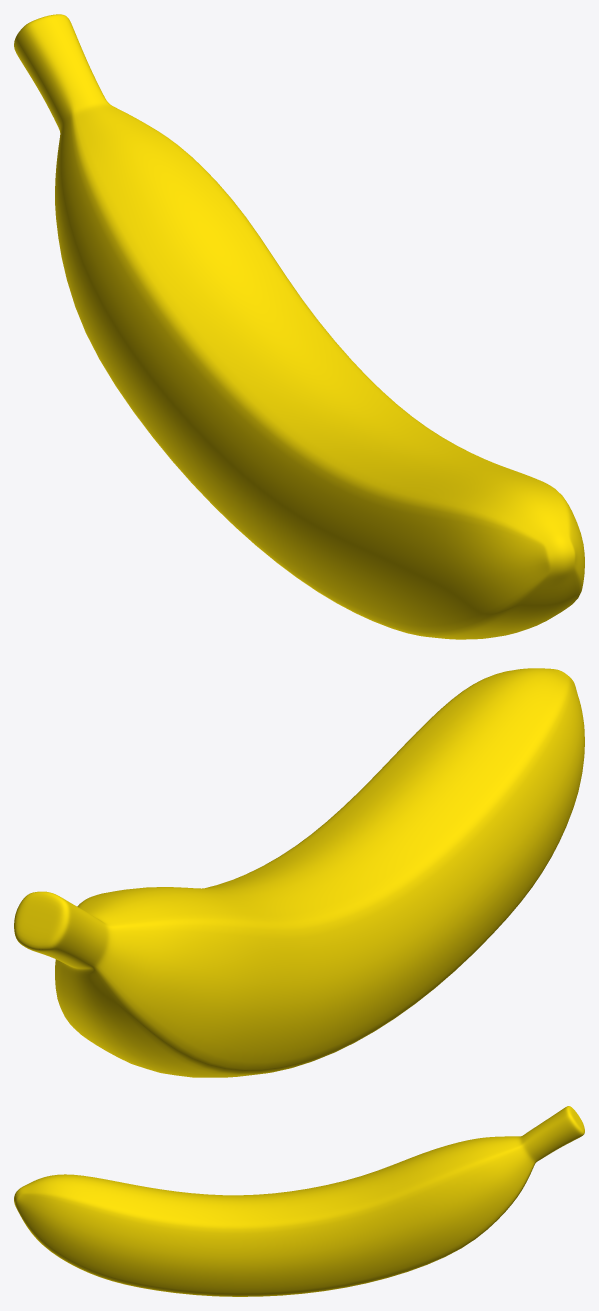
File: banana.fbx
The picture shows the model from 3 angles, top to bottom: view 1: azimuth 30°, elevation 25°; view 2: azimuth 150°, elevation 25°; view 3: azimuth 270°, elevation 25°; orthographic projection. The views are drawn at different scales.
Parts seen in each view (by area): view 1: Banana_low; view 2: Banana_low; view 3: Banana_low.
Part boxes in pixels (left/top/right/bottom): Banana_low: left=14, top=14, right=584, bottom=639; Banana_low: left=14, top=668, right=584, bottom=1077; Banana_low: left=14, top=1106, right=584, bottom=1296.
Bounding box in the file's own units: 22.21 × 45.31 × 129.
